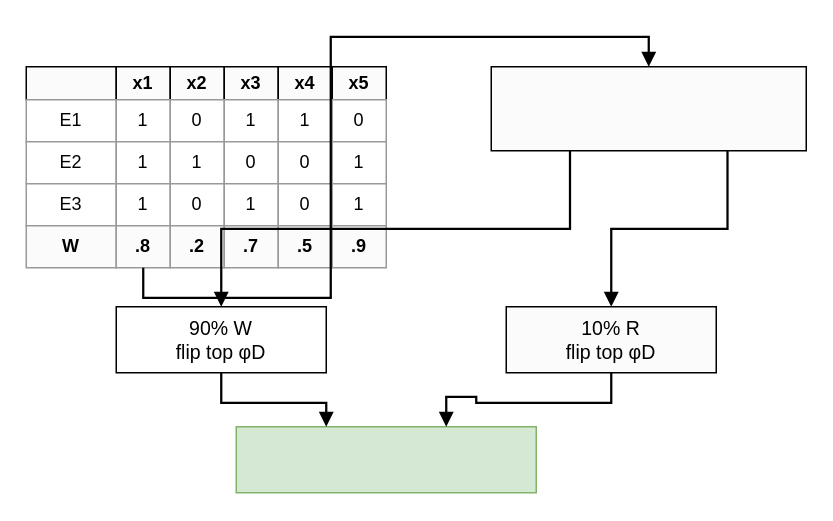
Image size: 833x521. Some labels were removed from this diagram. The shapes that lost their labels are listed below. From the top down, each one's centre as x and y in pixels, then its label:
At [70,82]: "elite".
At [648,108]: "σ_j=+W_j if x_j=0 σ_j=-W_j if x_j=1".
At [385,459]: "Re-evaluate; keep if f improves".
